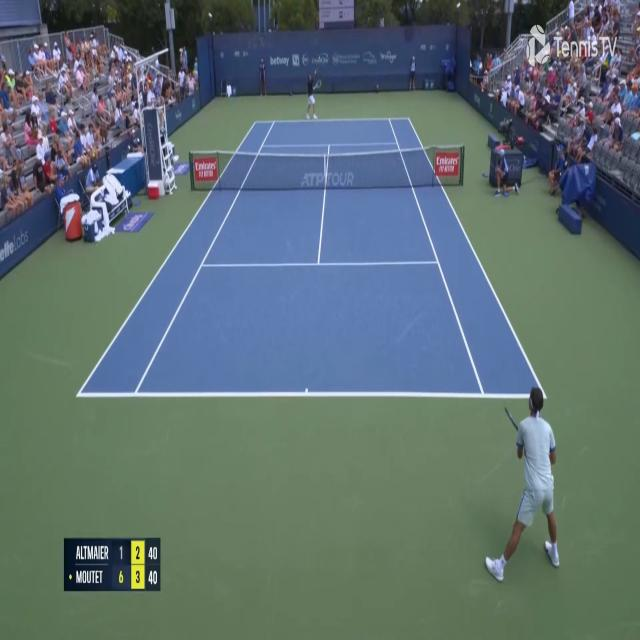tennis-player: (484, 384, 565, 589), (304, 68, 322, 122)
